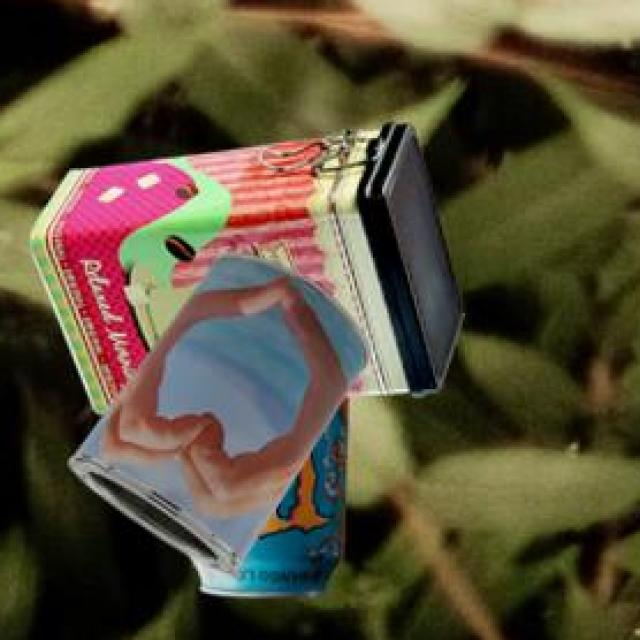logam: (33, 125, 468, 418), (73, 257, 374, 577), (195, 399, 350, 600)
